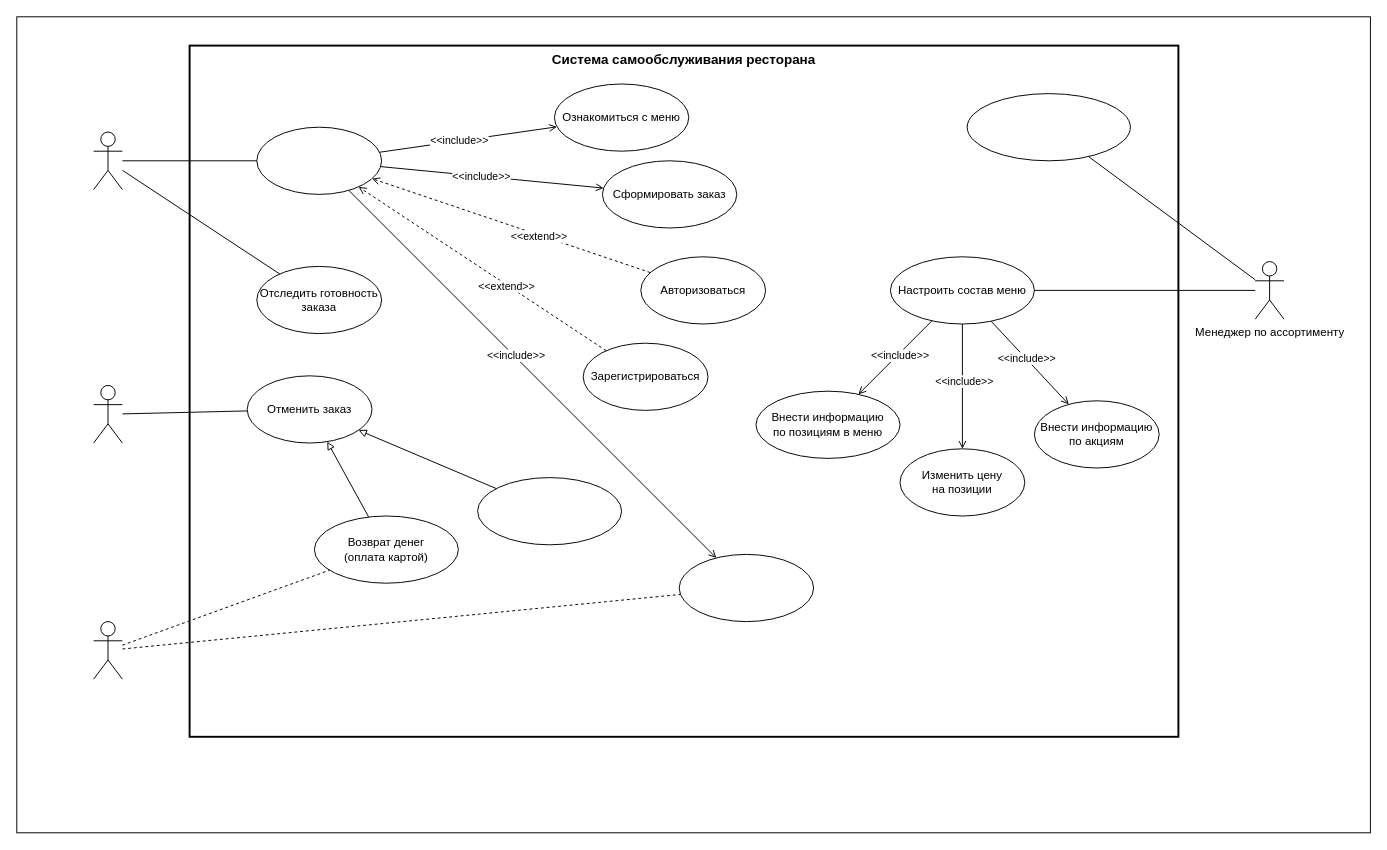
The diagram is 1387 pixels wide and 850 high, and some of its shapes have lost their labels. Each missing label, with the centre of its shape:
"Возврат денег (оплата наличными)" belongs at (549,511).
"Гость ресторана" belongs at (107,160).
"Менеджер зала" belongs at (107,413).
"Настроить технологическую карту" belongs at (1048,127).
"Оформить заказ" belongs at (319,160).
"Платёжная система" belongs at (107,650).
"Произвести оплату" belongs at (746,587).
